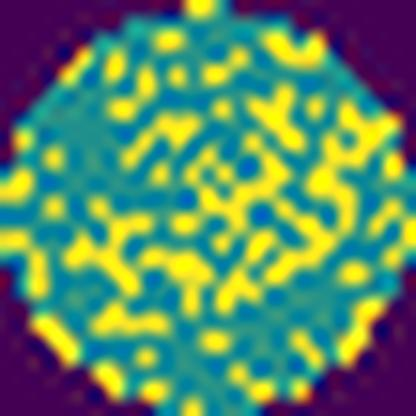Random: (51, 24, 416, 345)
